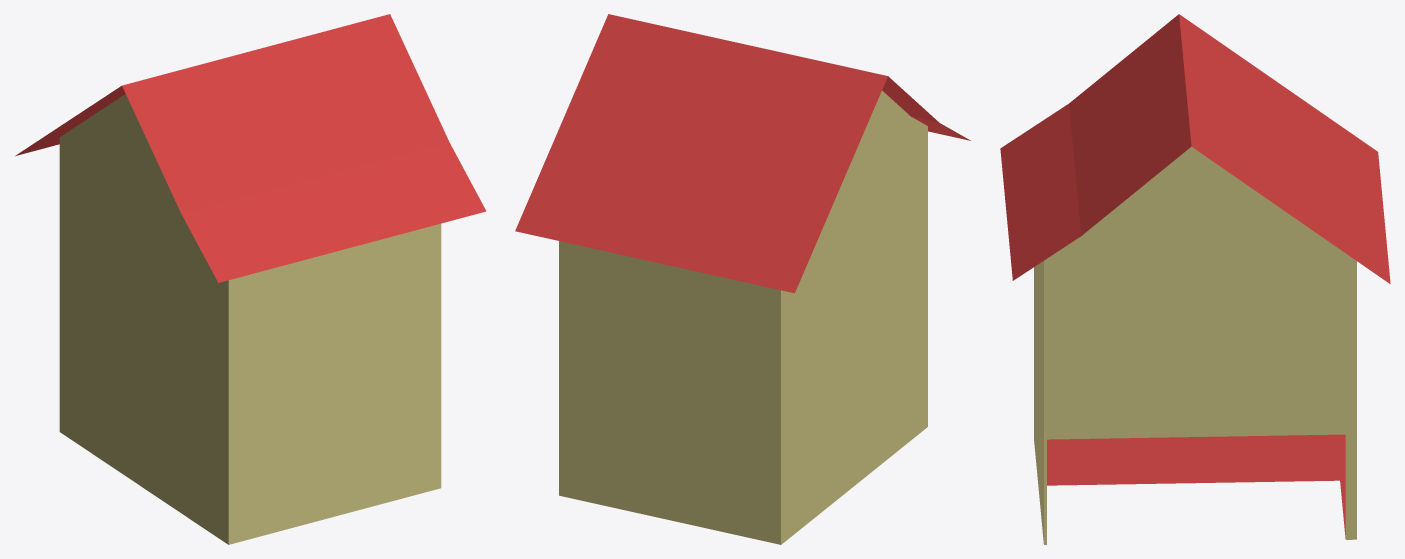
3 renders of one model, left to right at view 1: azimuth 30°, elevation 25°; view 2: azimuth 150°, elevation 25°; view 3: azimuth 270°, elevation 25°, orthographic.
Bounding box in the file's own units: 10.15 × 12.05 × 13.96.
